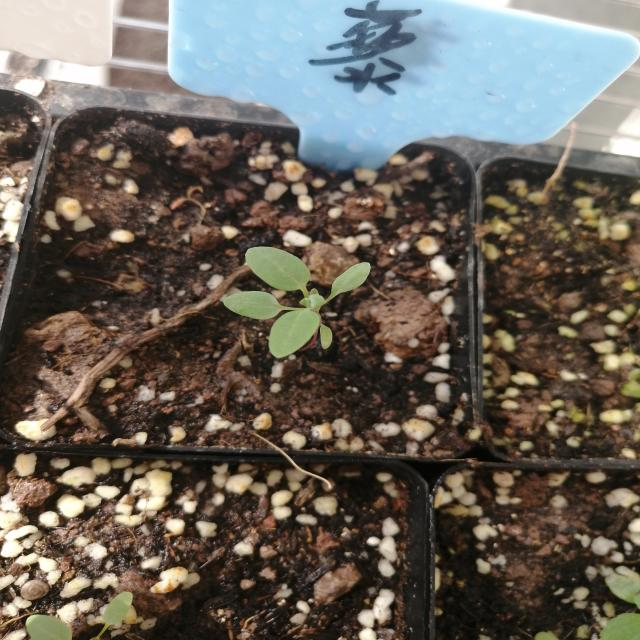goosefoots: (182, 233, 372, 363)
